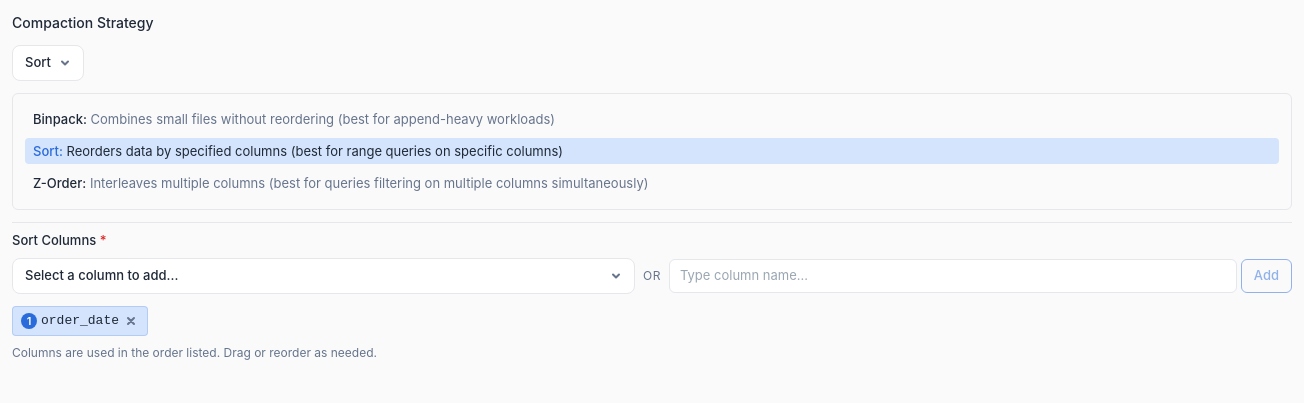
Test: CompactionStrategySelector › shows error when adding a duplicate column
In the field named "Sort column name": (953, 276) left=669, top=259, right=1237, bottom=293, type "order_date"
Then press Enter
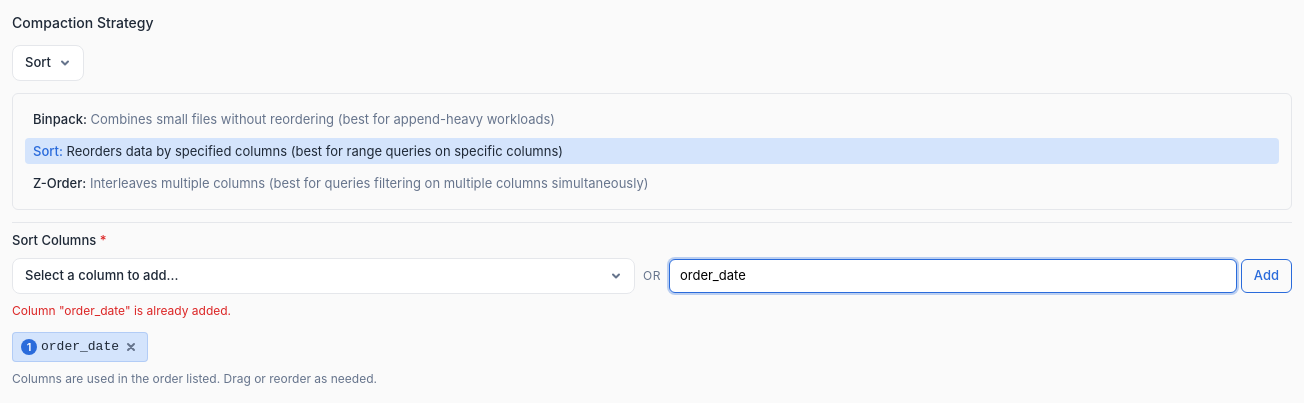
Result: the text "Column \"order_date\" is already added." is shown at left=12, top=303, right=231, bottom=318
